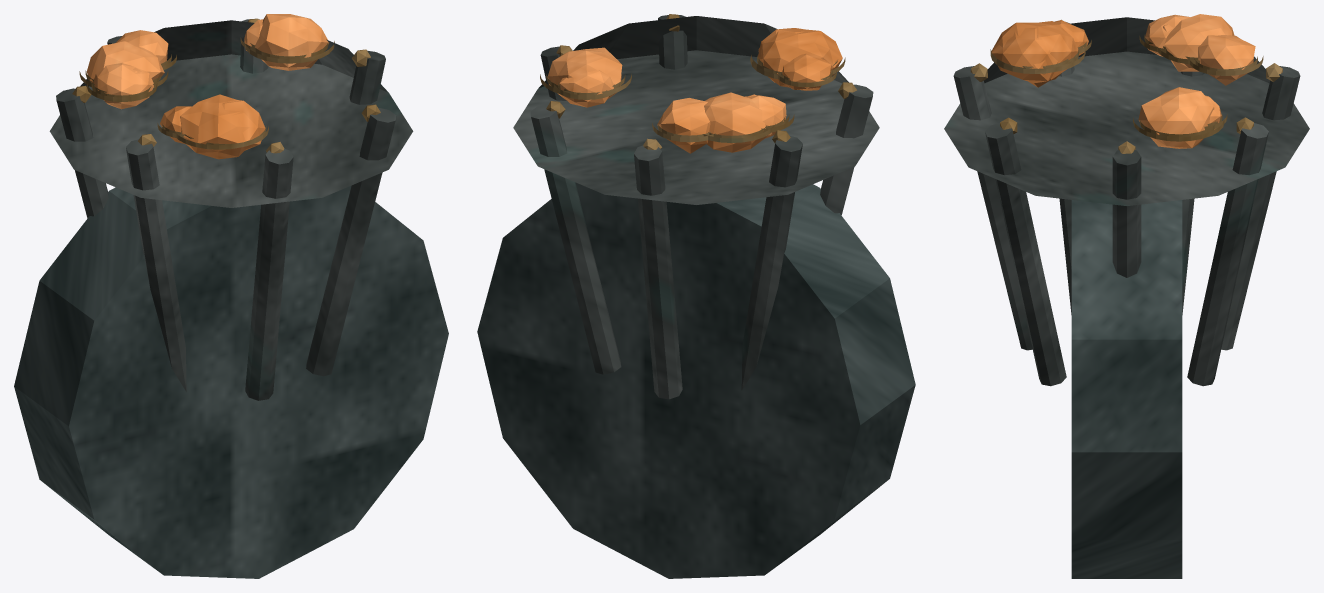
File: 0544_brazier_19.glb
3 views of the same model, side by side, from view 1: azimuth 30°, elevation 25°; view 2: azimuth 150°, elevation 25°; view 3: azimuth 270°, elevation 25° (orthographic).
Parts seen in each view (by area): view 1: stone_dark, iron, amber, brass; view 2: stone_dark, iron, amber, brass; view 3: iron, stone_dark, amber, brass.
Part boxes in pixels (bbox=[...]): stone_dark: bbox=[14, 185, 448, 578]; iron: bbox=[49, 19, 413, 400]; amber: bbox=[86, 14, 328, 159]; brass: bbox=[72, 18, 380, 153]; stone_dark: bbox=[477, 182, 915, 578]; iron: bbox=[513, 15, 879, 399]; amber: bbox=[547, 28, 842, 153]; brass: bbox=[540, 14, 856, 149]; iron: bbox=[944, 17, 1309, 386]; stone_dark: bbox=[1071, 200, 1182, 578]; amber: bbox=[991, 14, 1255, 148]; brass: bbox=[970, 19, 1282, 153].
Size of the model in its own units: 1.4 by 1.77 by 1.16.
4 materials, 4 textured.
